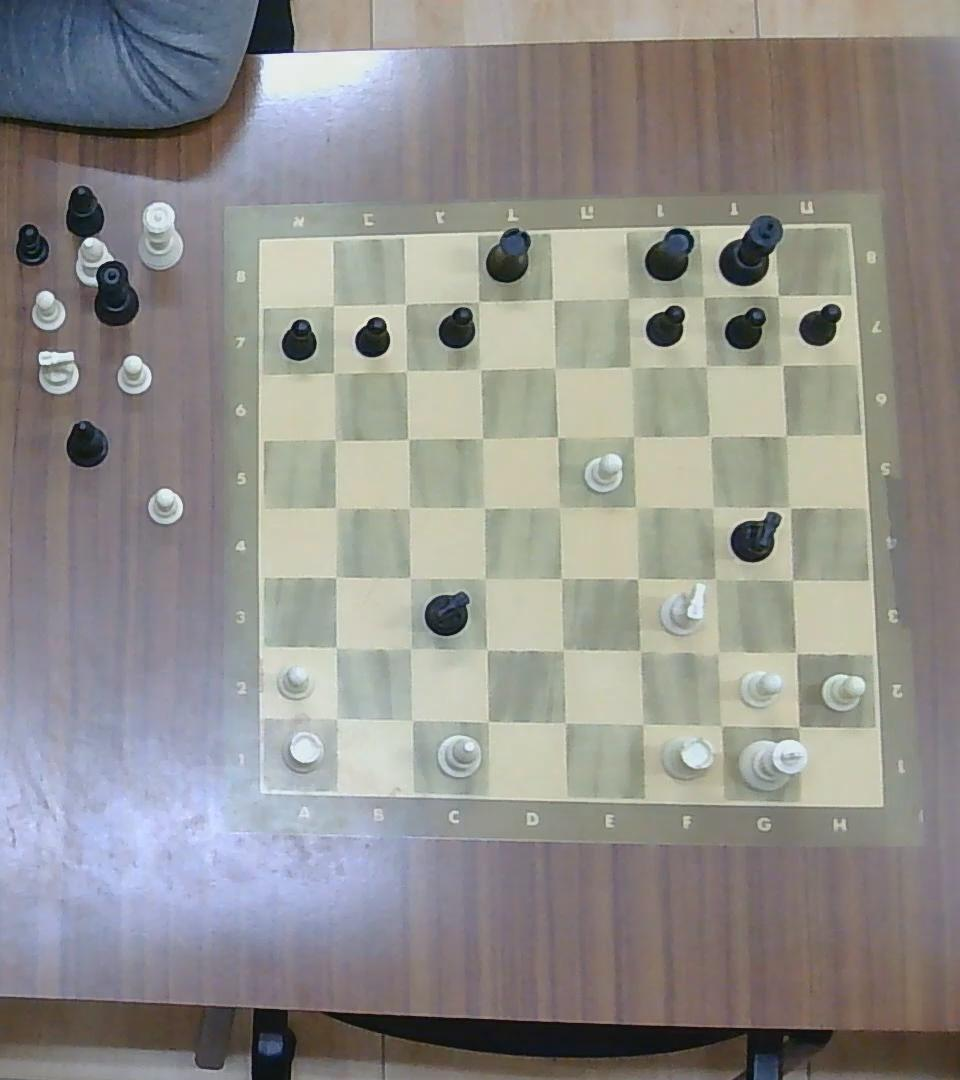xcorner: (624, 705, 659, 739), (780, 708, 815, 742), (702, 707, 737, 740), (701, 636, 734, 669), (624, 633, 655, 665), (548, 706, 579, 738), (470, 633, 501, 665), (780, 637, 812, 668), (320, 701, 351, 732), (470, 705, 502, 735), (469, 563, 501, 593), (622, 563, 652, 594), (547, 634, 578, 664), (395, 703, 425, 734), (621, 491, 651, 521), (547, 563, 576, 593), (320, 562, 350, 591), (394, 633, 424, 662), (776, 564, 806, 593), (320, 633, 350, 662), (700, 564, 729, 593), (394, 562, 423, 591), (616, 351, 645, 380), (698, 492, 728, 520), (545, 491, 573, 520), (470, 492, 499, 520), (467, 422, 495, 451), (619, 421, 648, 449), (775, 492, 804, 520), (395, 492, 423, 520), (543, 421, 571, 449), (393, 425, 421, 452), (322, 494, 350, 521), (540, 284, 566, 313), (615, 285, 643, 311), (696, 422, 723, 448), (693, 351, 720, 377), (320, 426, 348, 451), (465, 355, 493, 380), (541, 353, 567, 379), (465, 287, 491, 313), (393, 356, 418, 382), (773, 423, 798, 447), (691, 283, 715, 307), (391, 290, 416, 313), (322, 294, 345, 316), (322, 360, 345, 382), (770, 353, 793, 375), (767, 284, 790, 306)
